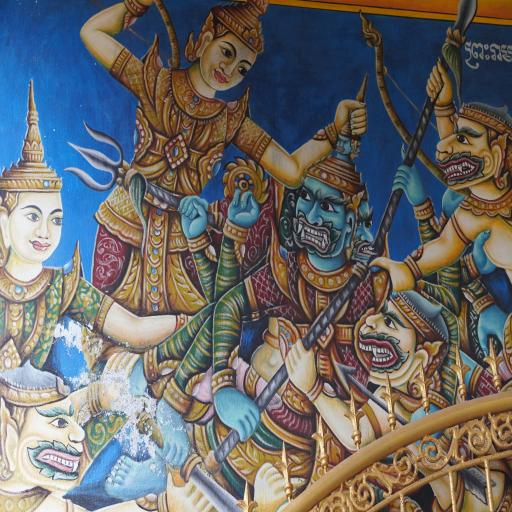than: (69, 0, 370, 358), (1, 61, 200, 512)
